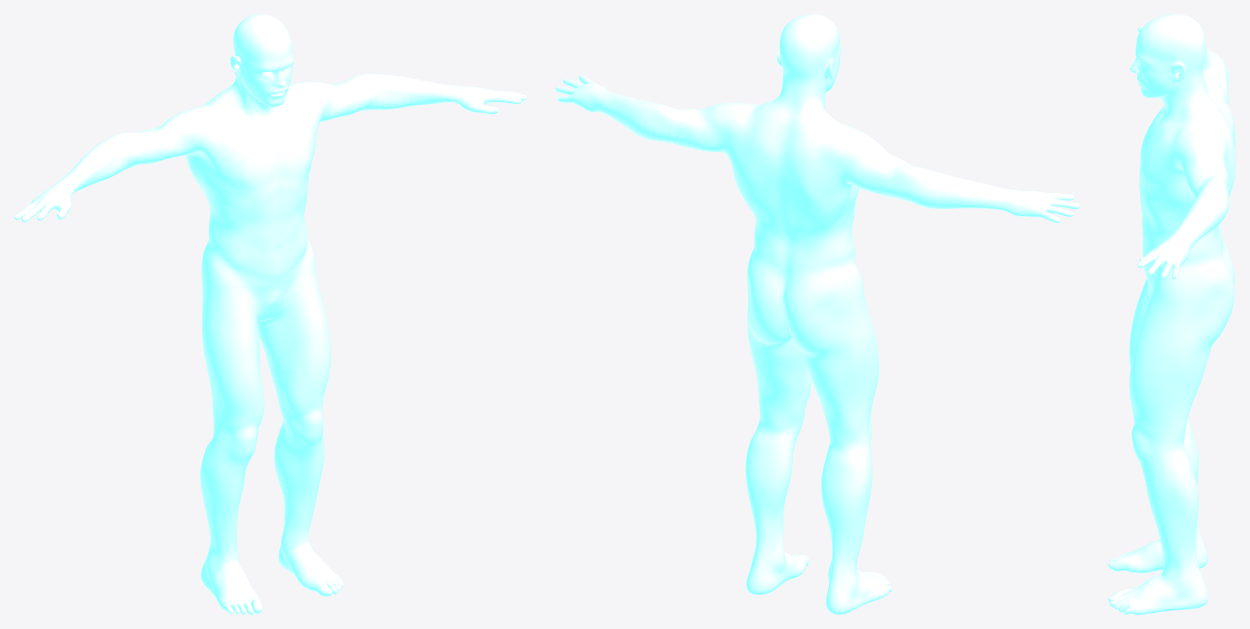
The model's file is joker.gltf.
3 views of the same model, side by side, from view 1: azimuth 30°, elevation 25°; view 2: azimuth 150°, elevation 25°; view 3: azimuth 270°, elevation 25° (orthographic). The views are drawn at different scales.
Parts seen in each view (by area): view 1: Body.002; view 2: Body.002; view 3: Body.002.
Part boxes in pixels (<box>): Body.002: <box>14,14,526,614</box>; Body.002: <box>555,14,1079,614</box>; Body.002: <box>1108,14,1235,614</box>.
Size of the model in its own units: 1.73 by 1.85 by 0.3737.
